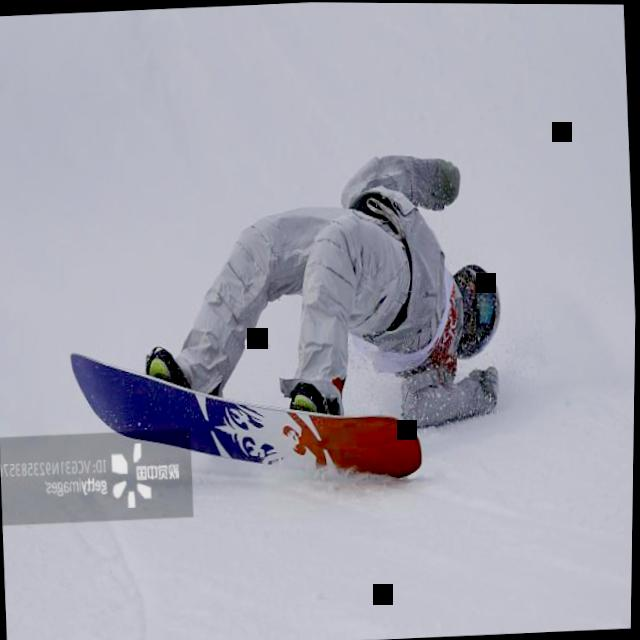Fall-Detected: (116, 99, 530, 473)
